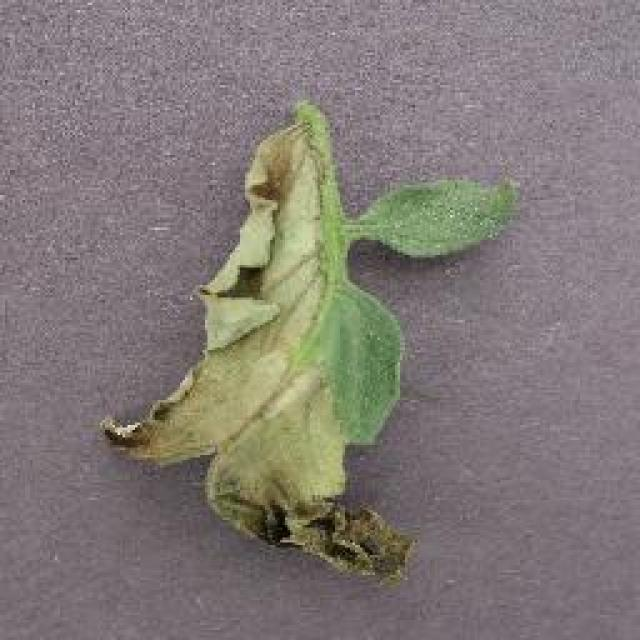Tomato late blight leaf: (96, 120, 416, 585)
